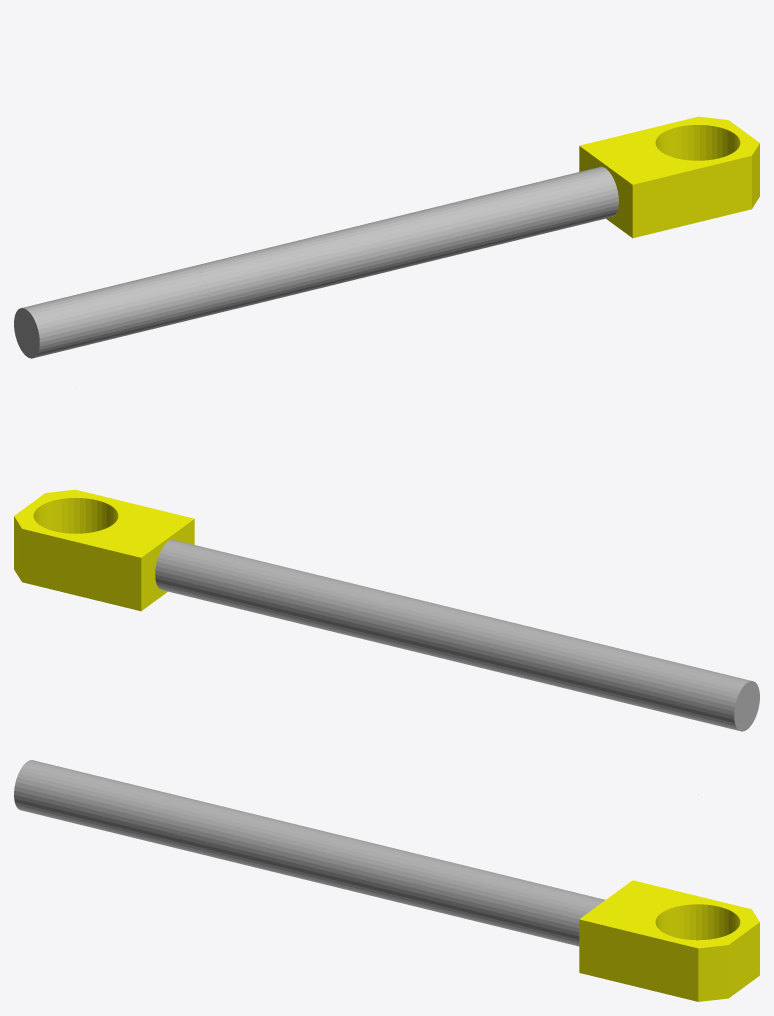
3 views of the same model, one above another, from view 1: azimuth 30°, elevation 25°; view 2: azimuth 150°, elevation 25°; view 3: azimuth 330°, elevation 25° (orthographic).
Parts seen in each view (by area): view 1: node; view 2: node; view 3: node.
Boxes of the visible parts, box(x1,y1,x2,y2) form: node: box(14, 116, 759, 358); node: box(14, 489, 759, 731); node: box(14, 760, 759, 1001).
Bounding box in the file's own units: 1123 × 272 × 145.
